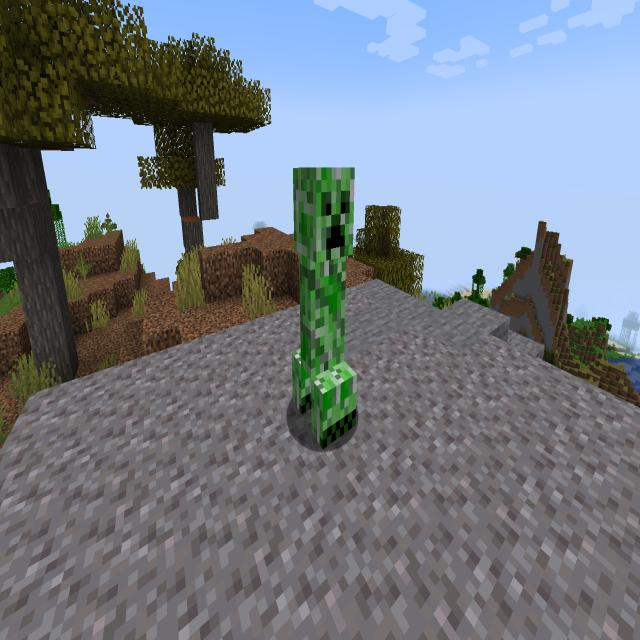Creeper: (276, 147, 372, 451)
